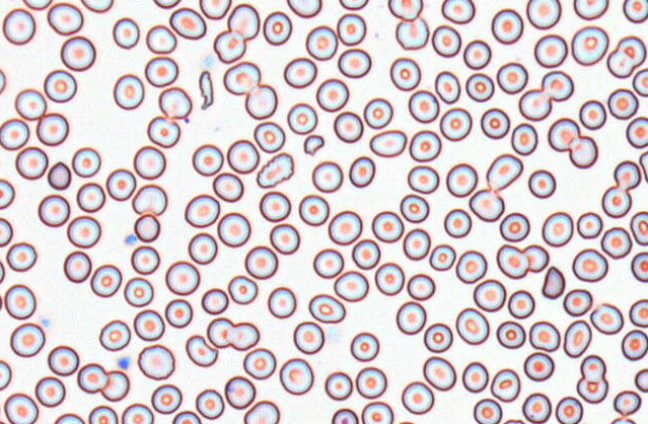PLT: (116, 356, 131, 369), (125, 233, 137, 246), (41, 317, 51, 328)
RBC: (606, 35, 646, 78), (571, 25, 609, 66), (486, 153, 523, 191), (256, 152, 294, 188), (137, 344, 175, 380), (279, 357, 314, 395), (455, 307, 489, 345), (60, 35, 95, 71), (223, 61, 260, 95), (571, 248, 608, 282), (2, 7, 35, 45), (10, 322, 45, 357), (165, 260, 200, 295), (327, 210, 362, 245), (184, 193, 220, 227), (217, 211, 251, 247), (227, 3, 260, 40), (46, 2, 83, 35), (422, 356, 456, 391), (244, 83, 277, 119), (468, 188, 504, 221), (169, 7, 206, 39), (472, 278, 506, 312), (244, 245, 278, 279), (35, 112, 69, 146), (315, 78, 349, 112), (496, 244, 529, 279), (66, 215, 101, 248), (534, 33, 567, 68), (226, 139, 259, 174), (305, 25, 338, 60), (445, 162, 478, 197), (333, 270, 369, 302), (131, 183, 167, 215), (4, 283, 36, 319), (491, 8, 523, 44), (541, 211, 573, 247), (113, 73, 144, 110), (518, 88, 552, 121), (158, 86, 192, 119), (547, 117, 580, 151), (401, 381, 434, 415), (395, 17, 429, 50), (133, 145, 166, 179), (439, 107, 472, 141), (589, 302, 624, 334), (308, 293, 345, 323), (563, 319, 592, 357), (213, 30, 246, 63), (147, 115, 180, 148), (15, 146, 48, 179), (37, 194, 70, 227), (43, 69, 76, 102), (242, 347, 276, 379), (455, 249, 487, 283), (407, 89, 439, 123), (90, 263, 122, 297), (389, 57, 421, 91), (3, 392, 38, 423), (369, 129, 407, 157), (191, 143, 223, 176), (496, 61, 528, 94), (371, 210, 404, 242), (600, 226, 632, 259), (409, 129, 441, 162), (224, 375, 255, 409), (395, 300, 426, 334), (144, 56, 178, 87), (283, 57, 317, 88), (262, 10, 292, 45), (14, 88, 46, 120), (311, 160, 343, 192), (355, 366, 387, 398), (253, 121, 285, 153), (259, 190, 291, 222), (98, 319, 130, 351), (105, 168, 136, 201), (293, 321, 324, 354), (490, 368, 520, 402), (337, 48, 371, 78), (526, 0, 561, 29), (541, 70, 573, 101), (47, 345, 79, 376), (528, 320, 560, 351), (286, 102, 317, 134), (298, 194, 329, 226), (133, 309, 164, 341), (568, 135, 598, 168), (601, 185, 631, 218), (333, 110, 363, 143), (431, 24, 461, 57), (374, 262, 404, 295), (77, 362, 108, 393), (34, 376, 65, 407), (151, 383, 182, 414), (607, 88, 638, 119), (269, 223, 300, 254), (407, 164, 439, 194), (145, 24, 177, 54), (187, 232, 217, 264), (363, 97, 393, 129), (312, 248, 344, 278), (336, 13, 366, 45), (480, 107, 510, 139), (0, 117, 29, 150), (6, 241, 37, 271), (523, 351, 554, 381), (227, 274, 258, 304), (521, 392, 551, 423), (212, 172, 243, 202), (71, 146, 101, 177), (123, 276, 153, 307), (499, 212, 530, 242), (227, 321, 259, 350), (100, 369, 129, 401), (267, 286, 296, 318), (510, 122, 538, 155), (63, 250, 91, 283), (402, 227, 430, 260), (399, 193, 429, 223), (351, 238, 380, 269), (195, 388, 224, 419), (164, 298, 193, 328), (423, 322, 452, 352), (130, 245, 160, 274), (76, 182, 105, 212), (350, 331, 379, 361), (465, 72, 494, 102), (578, 99, 606, 130), (461, 361, 488, 393), (112, 17, 139, 49), (348, 155, 375, 187), (434, 70, 460, 103), (243, 400, 280, 423), (324, 371, 353, 400), (527, 169, 556, 198), (496, 320, 525, 349), (613, 160, 641, 190), (507, 289, 535, 319), (562, 288, 592, 316), (443, 208, 471, 238), (463, 39, 491, 69), (206, 317, 233, 348), (576, 377, 608, 403), (441, 0, 475, 24), (621, 329, 647, 360), (133, 213, 160, 242), (406, 273, 435, 300), (522, 244, 549, 272), (555, 396, 583, 423), (576, 211, 603, 239), (472, 398, 502, 423), (201, 287, 228, 314), (429, 243, 455, 271), (573, 0, 609, 20), (361, 401, 393, 423), (580, 354, 605, 382), (387, 0, 422, 20), (613, 390, 641, 415), (47, 161, 71, 190), (626, 116, 647, 148), (121, 402, 153, 423), (286, 0, 322, 18), (199, 0, 231, 19), (630, 211, 647, 245), (622, 0, 647, 23), (628, 298, 647, 327), (88, 405, 118, 423), (630, 251, 647, 282), (0, 178, 15, 209), (632, 67, 647, 97), (331, 407, 358, 423), (80, 0, 113, 13), (0, 217, 13, 246), (172, 410, 201, 423), (53, 412, 85, 423), (0, 359, 11, 390), (634, 367, 647, 392), (22, 0, 52, 10), (338, 0, 368, 10), (153, 0, 180, 9), (610, 416, 636, 423), (0, 68, 6, 94), (0, 259, 5, 283), (502, 418, 525, 423), (396, 420, 415, 424)
Schistocyte: (186, 334, 219, 366), (541, 265, 567, 300), (198, 70, 215, 111), (303, 135, 325, 157)
